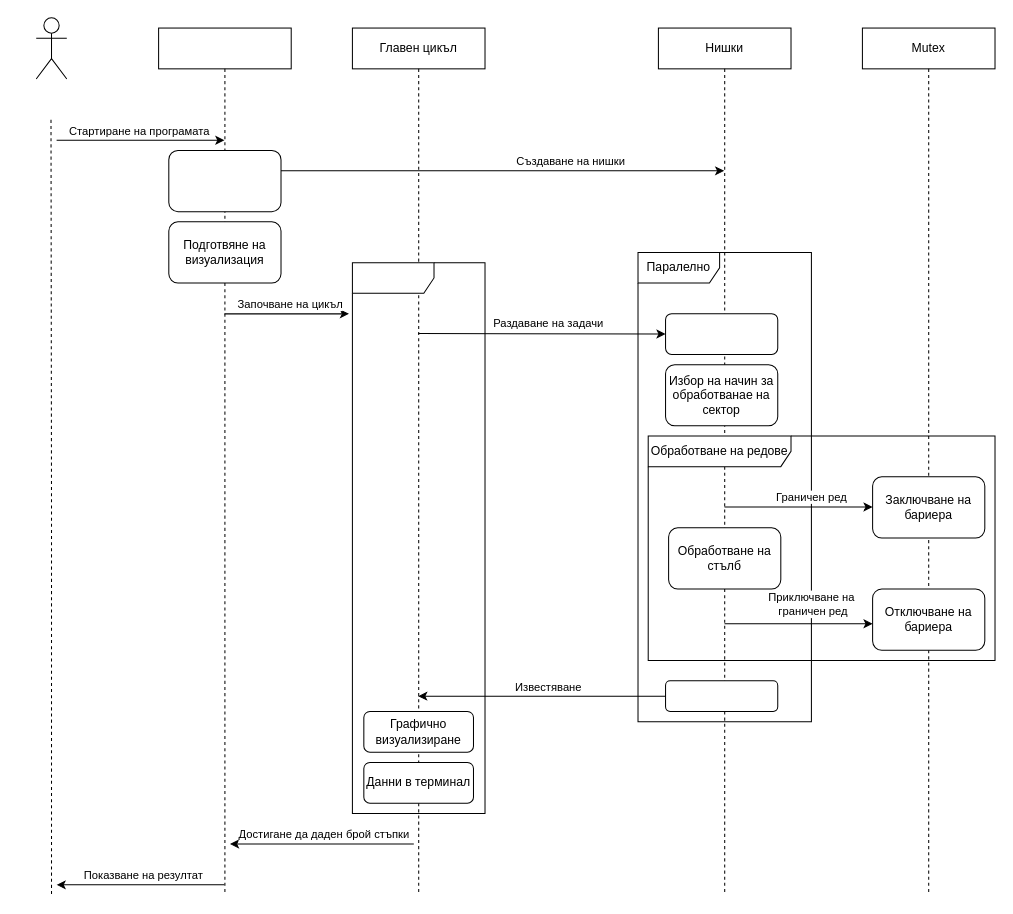
Some shapes in this 1013 by 914 pixel diagram are drawn without their labels. The box of each missing label's shape, as (x1, y1, x2, y2) in pixels:
Основен код: (158, 27, 291, 895)
Подготвяне на симулация: (168, 149, 281, 212)
Потребител: (35, 17, 67, 79)
Приемане на работа: (665, 313, 778, 354)
Приключване: (665, 680, 778, 711)
Цикъл: (351, 262, 485, 813)
